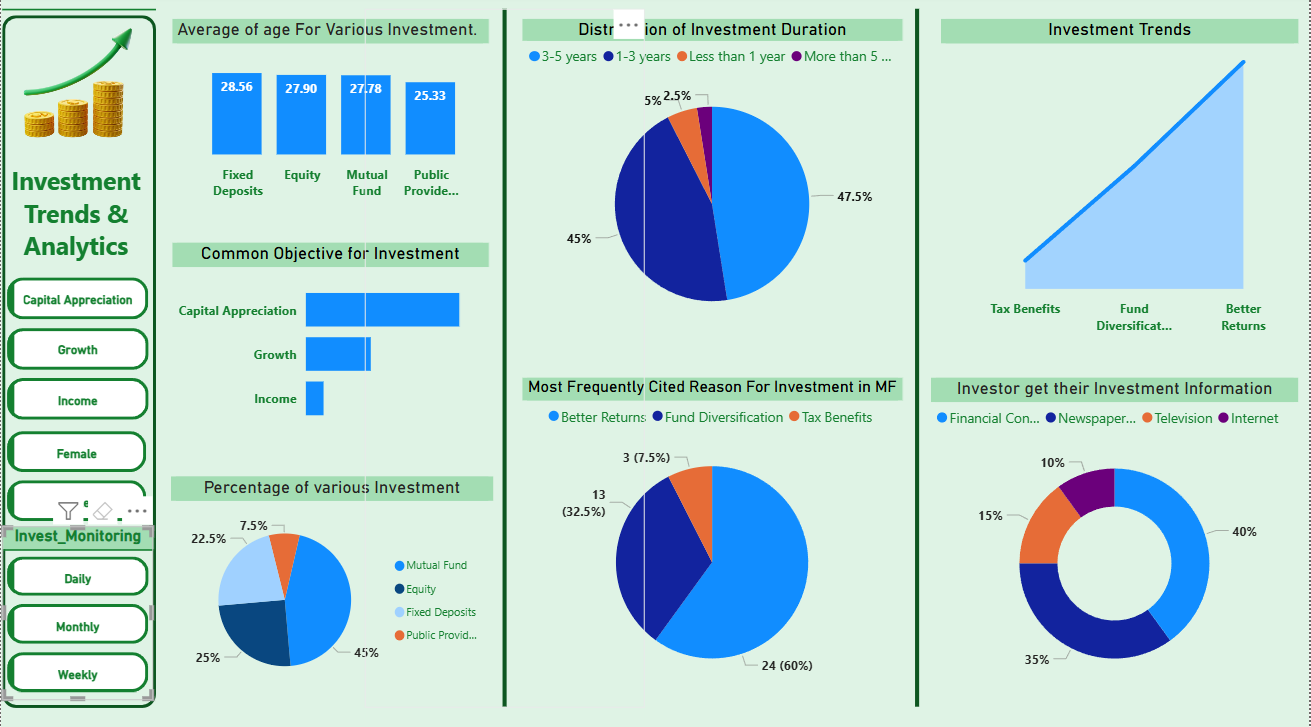

The dashboard page shown, as its layout file describes it:
{"tool":"powerbi","page":{"name":"Dashboard","canvas":[1280,720],"ordinal":6},"visuals":[{"type":"shape","box":[1.3,13.3,150.7,684],"z":0},{"type":"image","box":[0,23.2,150.4,126],"z":1000},{"type":"shape","box":[151.6,3.7,342.4,203],"z":2000},{"type":"clusteredColumnChart","title":"Average of age For Various Investment.","fields":{"Y":["Avg(Data_set 2 duplicate.age)"],"Category":["Data_set 2 duplicate.Avenue"]},"box":[168,22.7,309.3,184],"z":3000},{"type":"shape","box":[152,225.3,341.3,228],"z":4000},{"type":"barChart","title":"Common Objective for Investment","fields":{"Category":["Data_set 2 duplicate.Objective"],"Y":["Data.Total_Person"]},"box":[168,242.7,309.3,193.3],"z":5000},{"type":"textbox","box":[1.3,160,144,107],"z":6000},{"type":"shape","box":[152,462.7,341.3,234.7],"z":7000},{"type":"pieChart","title":"Percentage of various Investment","fields":{"Category":["Data_set 2 duplicate.Avenue"],"Y":["Data_set 2 duplicate.Total_Person"]},"box":[166,471,315,218],"z":8000},{"type":"advancedSlicerVisual","fields":{"Values":["Data.Objective"]},"box":[1.3,272,148,149.3],"z":9000},{"type":"advancedSlicerVisual","fields":{"Values":["Data.gender"]},"box":[1.3,421.3,146.7,98.7],"z":10000},{"type":"shape","box":[493.3,13.3,404,342.7],"z":11000},{"type":"advancedSlicerVisual","title":"Invest_Monitoring","fields":{"Values":["Data.Invest_Monitor"]},"box":[1.3,520,148,169.3],"z":12000},{"type":"pieChart","title":"Distribution of Investment Duration","fields":{"Category":["Data.Duration"],"Y":["Data.Total_Person"]},"box":[509.3,22.7,372,317.3],"z":13000},{"type":"shape","box":[493.3,364,404,333.3],"z":14000},{"type":"shape","box":[904.9,364.4,347.3,342.4],"z":15000},{"type":"pieChart","title":"Most Frequently Cited Reason For Investment in MF","fields":{"Category":["Data.Reason_Mutual"],"Y":["Data.Total_Person"]},"box":[509.3,374.7,372,314.7],"z":16000},{"type":"areaChart","title":"Investment Trends","fields":{"Category":["Data.Reason_Mutual"],"Y":["Data.Total_Person"]},"box":[919.6,23.2,349.7,315.5],"z":17000},{"type":"shape","box":[898.7,364,348,333.3],"z":18000},{"type":"donutChart","title":"Investor  get their Investment Information","fields":{"Category":["Data.Source"],"Y":["Data.Total_Person"]},"box":[909.8,374.2,359.5,315.5],"z":19000},{"type":"shape","box":[759.4,13.5,273.9,683.6],"z":20000},{"type":"shape","box":[355.8,13.5,273.9,683.6],"z":21000}]}

Visuals, with their boxes on the page's 1280x720 design canvas (x1, y1, x2, y2). These are canvas units, not pixel positions in the 1311x727 screenshot, which may show the page scaled, cropped or inside an application window:
shape: <bbox>1, 13, 152, 697</bbox>
image: <bbox>0, 23, 150, 149</bbox>
shape: <bbox>152, 4, 494, 207</bbox>
"Average of age For Various Investment." clusteredColumnChart: <bbox>168, 23, 477, 207</bbox>
shape: <bbox>152, 225, 493, 453</bbox>
"Common Objective for Investment" barChart: <bbox>168, 243, 477, 436</bbox>
textbox: <bbox>1, 160, 145, 267</bbox>
shape: <bbox>152, 463, 493, 697</bbox>
"Percentage of various Investment" pieChart: <bbox>166, 471, 481, 689</bbox>
advancedSlicerVisual - Data.Objective: <bbox>1, 272, 149, 421</bbox>
advancedSlicerVisual - Data.gender: <bbox>1, 421, 148, 520</bbox>
shape: <bbox>493, 13, 897, 356</bbox>
"Invest_Monitoring" advancedSlicerVisual: <bbox>1, 520, 149, 689</bbox>
"Distribution of Investment Duration" pieChart: <bbox>509, 23, 881, 340</bbox>
shape: <bbox>493, 364, 897, 697</bbox>
shape: <bbox>905, 364, 1252, 707</bbox>
"Most Frequently Cited Reason For Investment in MF" pieChart: <bbox>509, 375, 881, 689</bbox>
"Investment Trends" areaChart: <bbox>920, 23, 1269, 339</bbox>
shape: <bbox>899, 364, 1247, 697</bbox>
"Investor  get their Investment Information" donutChart: <bbox>910, 374, 1269, 690</bbox>
shape: <bbox>759, 14, 1033, 697</bbox>
shape: <bbox>356, 14, 630, 697</bbox>
